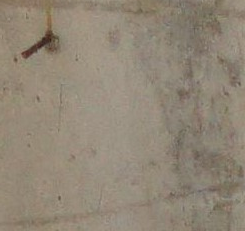Exposed reinforcement: (21, 33, 52, 60)
